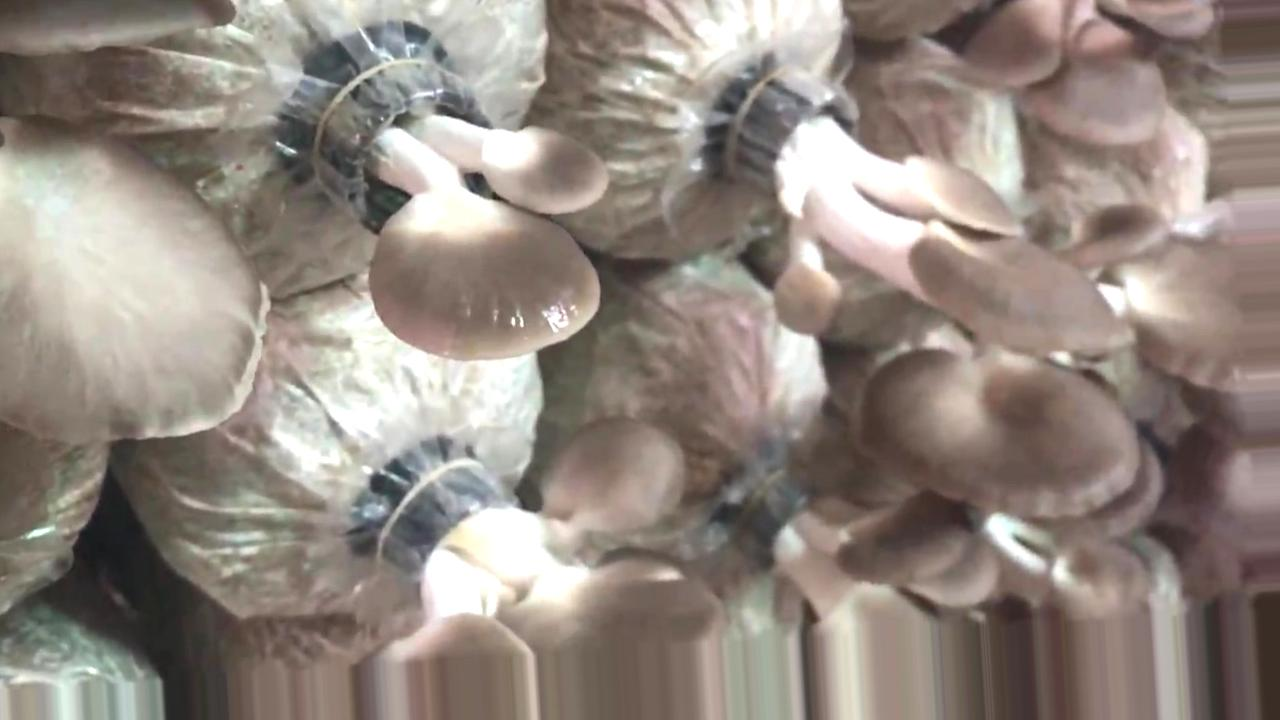nam: (731, 64, 1135, 368), (321, 42, 609, 370), (1, 123, 270, 446), (375, 477, 720, 720), (739, 475, 999, 720), (857, 352, 1138, 518)
